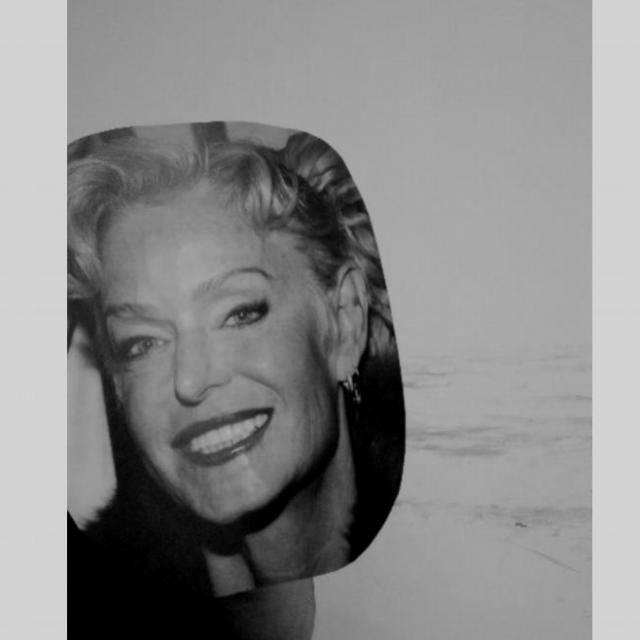fake: (68, 116, 408, 604)
